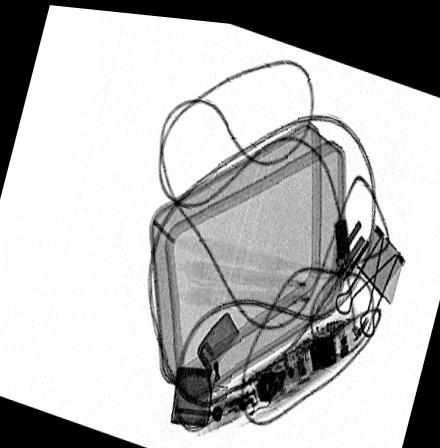Lighter: (168, 306, 239, 424)
